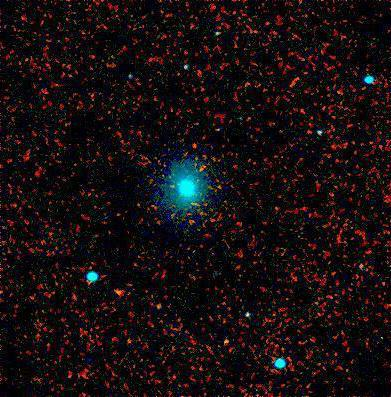star: (103, 277, 133, 307)
